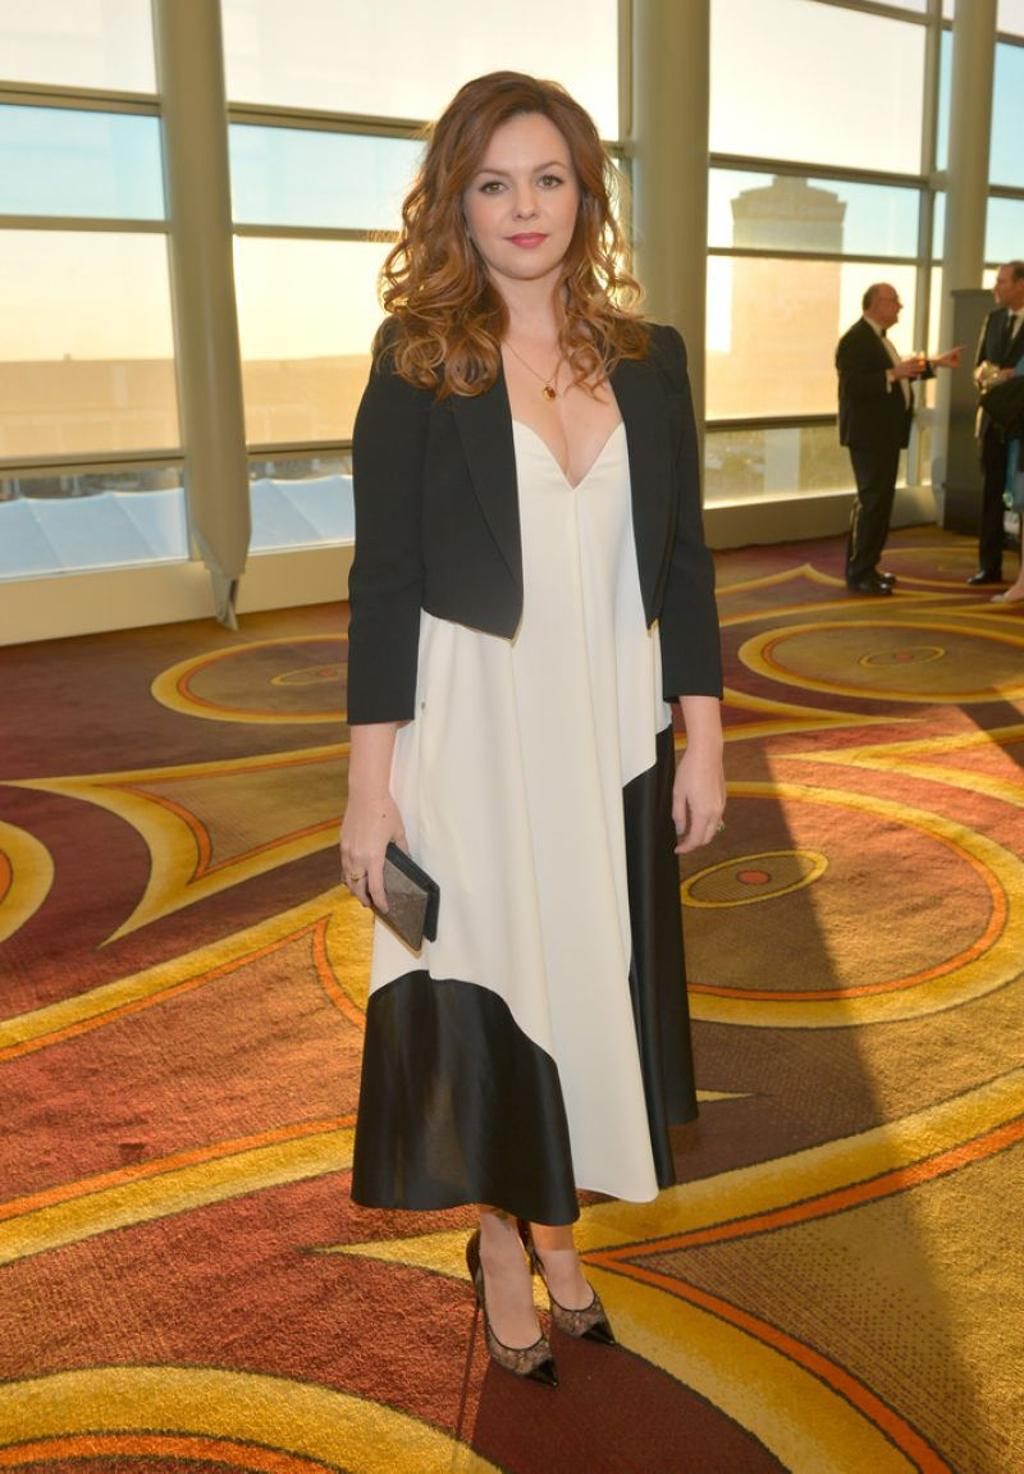face: (461, 134, 579, 280), (992, 270, 1015, 304), (879, 288, 901, 323)
